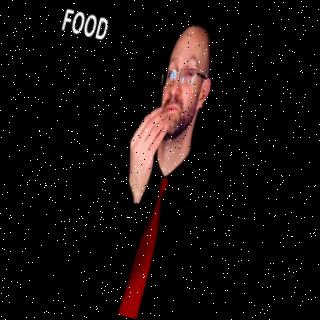Food: (89, 6, 243, 320)
